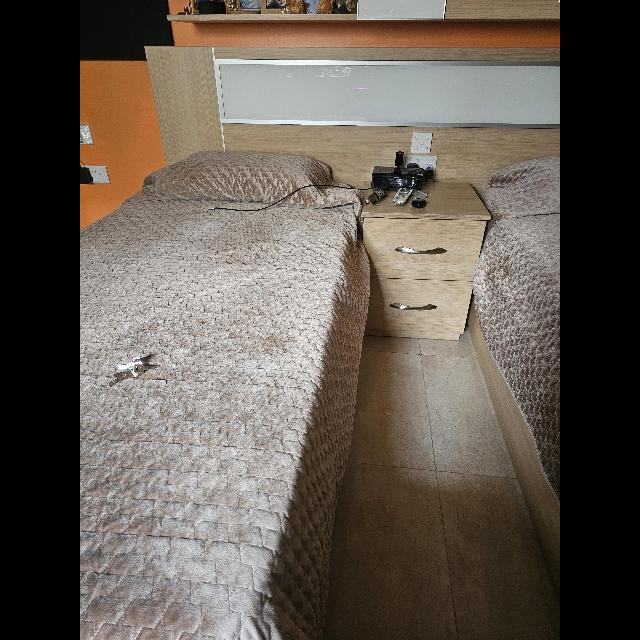Keys: (108, 352, 160, 388)
Sunglasses: (364, 188, 388, 206)
